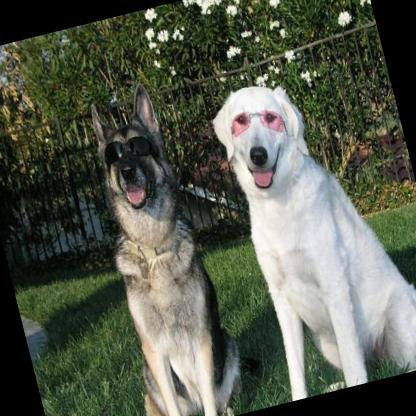kuvasz: (204, 54, 416, 401)
